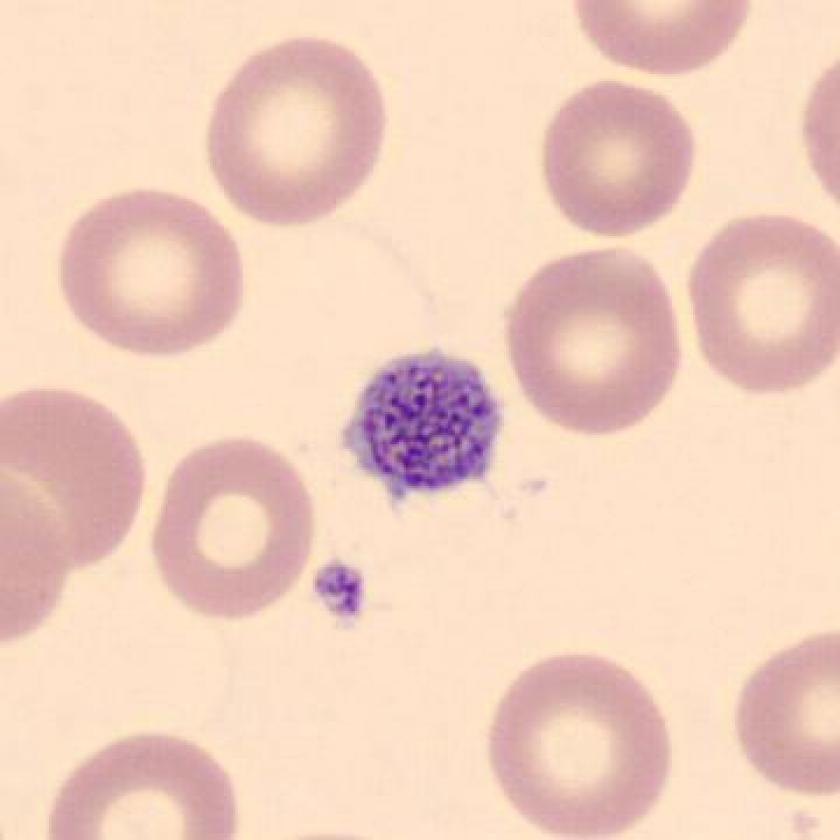platelets: (342, 346, 507, 512), (300, 552, 379, 642)
